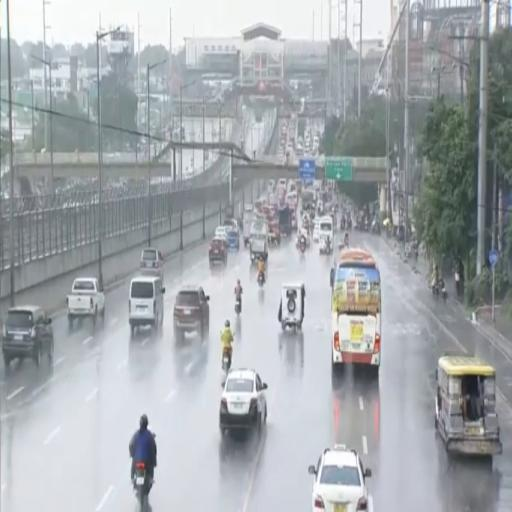bus: (332, 249, 381, 375)
car: (309, 444, 372, 511), (220, 368, 267, 436), (2, 306, 53, 367), (129, 277, 165, 335), (174, 285, 209, 343), (140, 248, 163, 282), (209, 237, 227, 265), (226, 228, 240, 251), (296, 229, 310, 247), (223, 219, 239, 231), (215, 227, 227, 239)
jeepney: (435, 356, 502, 456)
motorcycle: (134, 462, 152, 510), (134, 462, 148, 510), (222, 349, 230, 375), (371, 218, 380, 234), (439, 282, 446, 302), (234, 296, 241, 316), (432, 284, 440, 300), (258, 272, 264, 286), (346, 216, 352, 230), (364, 216, 369, 232), (340, 218, 345, 230), (300, 243, 306, 253)
truck: (66, 278, 104, 328), (249, 219, 268, 263), (242, 206, 254, 247), (279, 206, 292, 236)
